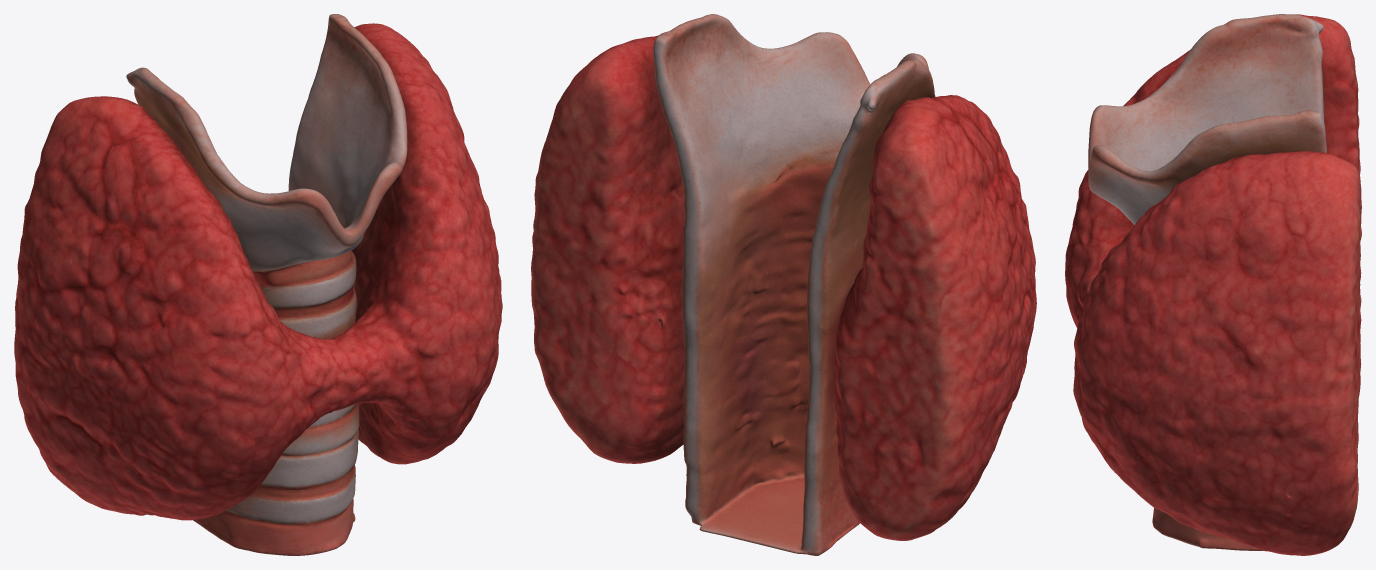
The model's file is Tiroides.glb.
3 views of the same model, side by side, from view 1: azimuth 30°, elevation 25°; view 2: azimuth 150°, elevation 25°; view 3: azimuth 270°, elevation 25° (orthographic). The views are drawn at different scales.
Parts seen in each view (by area): view 1: world; view 2: world; view 3: world.
Part boxes in pixels (bbox=[...]): world: bbox=[14, 14, 502, 555]; world: bbox=[531, 14, 1036, 555]; world: bbox=[1065, 14, 1361, 555].
Size of the model in its own units: 0.9936 by 1 by 0.5896.
Materials: 1 (1 with a texture image).
